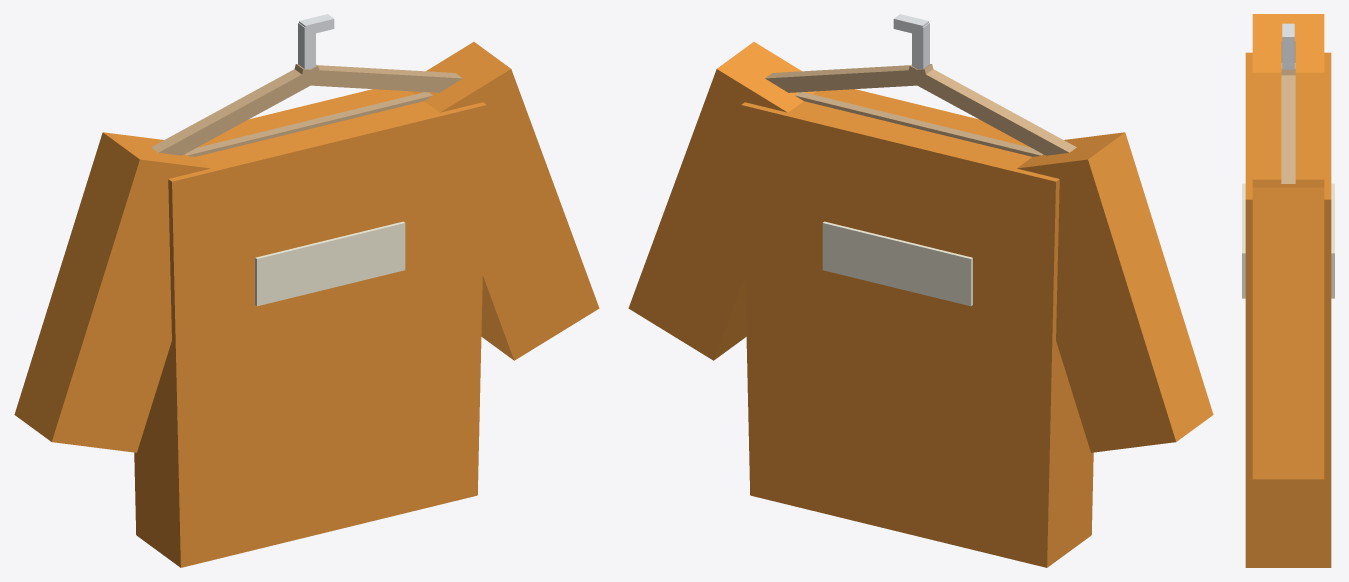
File: tee.glb
3 views of the same model, side by side, from view 1: azimuth 30°, elevation 25°; view 2: azimuth 150°, elevation 25°; view 3: azimuth 270°, elevation 25° (orthographic). The views are drawn at different scales.
Visible parts, largest first — view 1: GarmentBody, WoodenHanger, GarmentAccent, Hook; view 2: GarmentBody, WoodenHanger, GarmentAccent, Hook; view 3: GarmentBody, WoodenHanger, GarmentAccent, Hook.
Part boxes in pixels (x1,y1,x2,y2): GarmentBody: [14, 42, 599, 567]; WoodenHanger: [151, 64, 462, 156]; GarmentAccent: [255, 221, 405, 306]; Hook: [298, 14, 334, 69]; GarmentBody: [628, 42, 1213, 567]; WoodenHanger: [765, 64, 1076, 156]; GarmentAccent: [822, 221, 972, 306]; Hook: [893, 14, 929, 69]; GarmentBody: [1245, 14, 1331, 567]; WoodenHanger: [1281, 41, 1295, 183]; GarmentAccent: [1242, 183, 1334, 298]; Hook: [1282, 23, 1294, 69].
Bounding box in the file's own units: 1.7 × 1.46 × 0.26.
